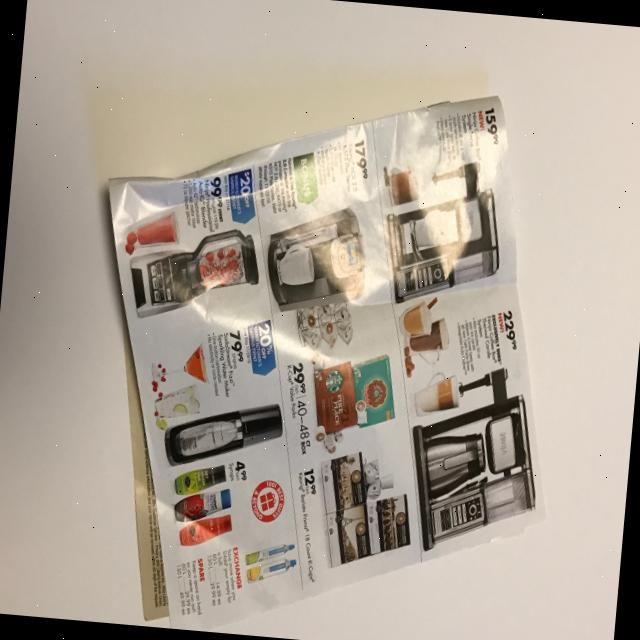paper: (68, 61, 580, 640)
